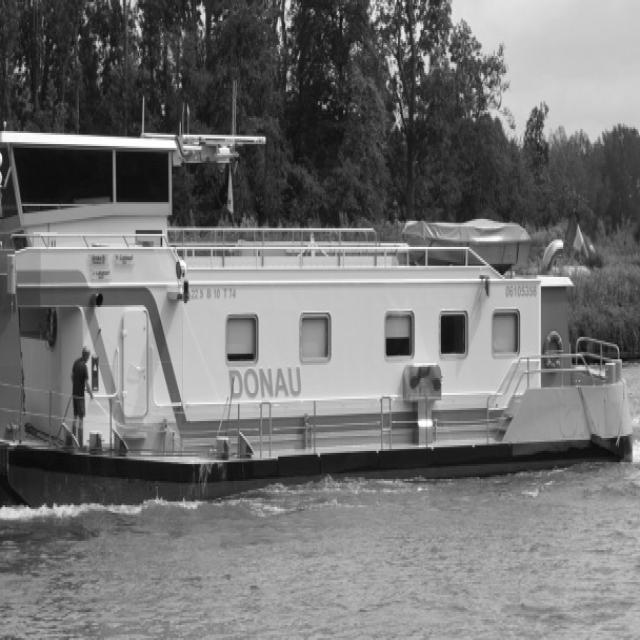tugboat: (1, 74, 640, 529)
